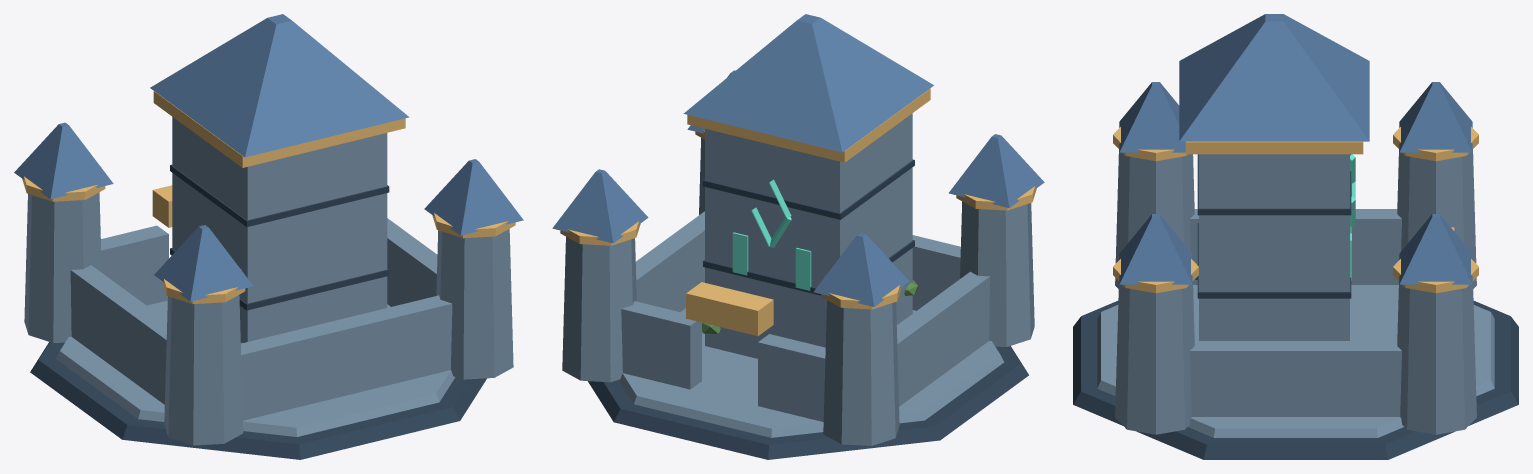
File: Keep_1.fbx
The picture shows the model from 3 angles, left to right: view 1: azimuth 30°, elevation 25°; view 2: azimuth 150°, elevation 25°; view 3: azimuth 270°, elevation 25°; orthographic projection. The views are drawn at different scales.
Parts seen in each view (by area): view 1: Keep_1; view 2: Keep_1; view 3: Keep_1.
Boxes of the visible parts, x1,y1,x2,y2 form: Keep_1: (14, 14, 523, 459); Keep_1: (552, 14, 1044, 459); Keep_1: (1073, 14, 1518, 459).
Bounding box in the file's own units: 3.6 × 3.1 × 3.6.
